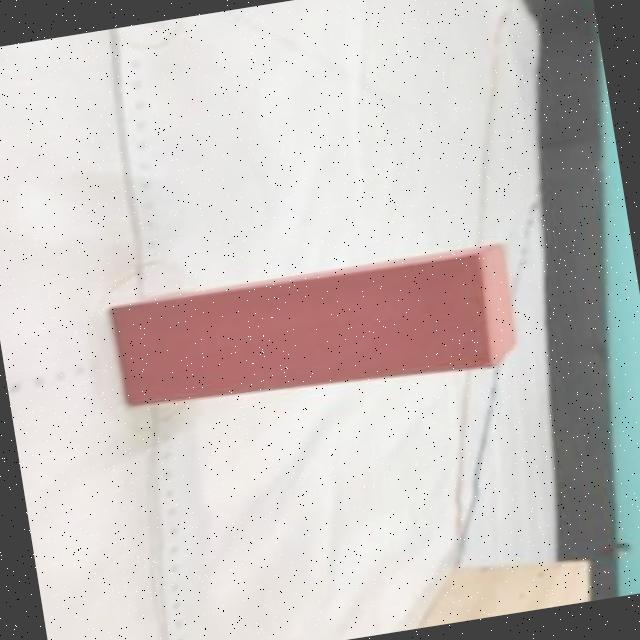redbox: (104, 238, 524, 429)
